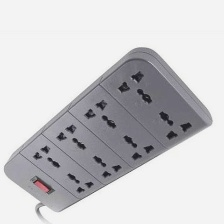three_eye_plug: (3, 41, 219, 214)
